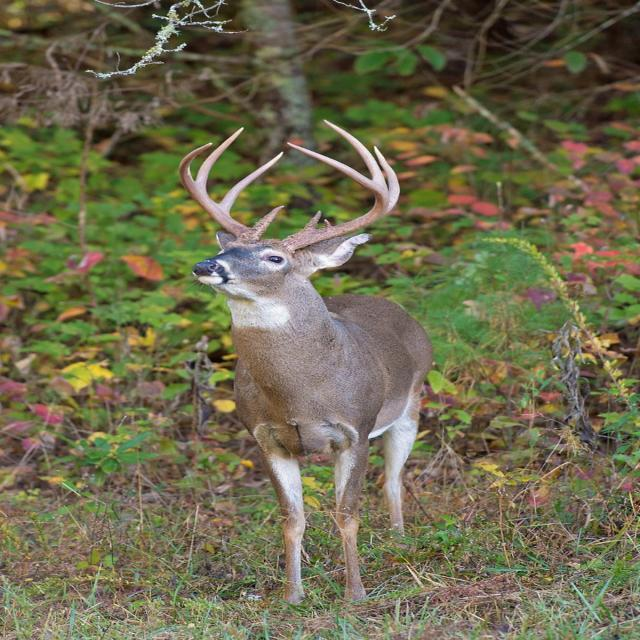E1: (321, 219, 332, 228)
L-F: (281, 142, 390, 254)
L-G1: (295, 210, 322, 234)
L-G3: (323, 119, 388, 189)
R-G1: (253, 205, 286, 236)
R-G2: (218, 151, 284, 214)
R-G3: (195, 126, 245, 195)
